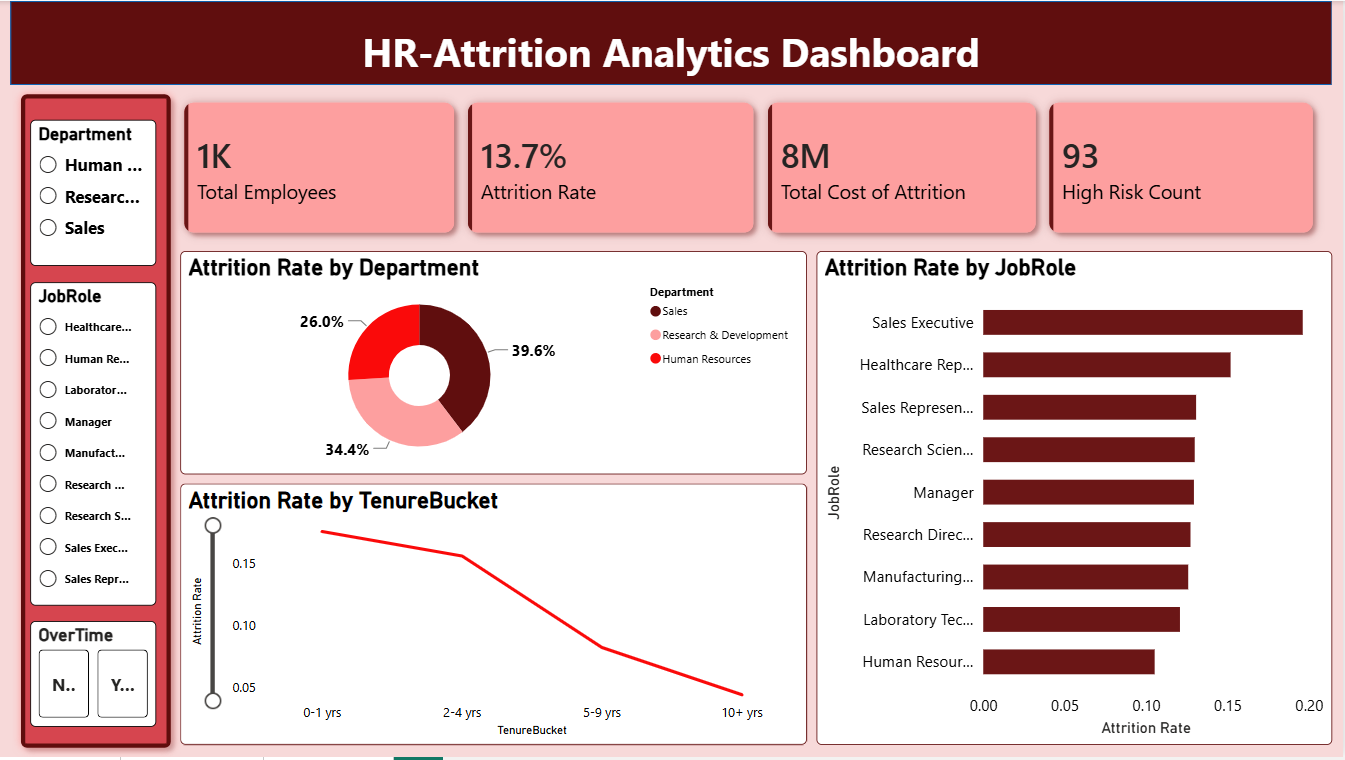

What the dashboard file says about the page in this screenshot:
{"tool":"powerbi","page":{"name":"Executive Overview","canvas":[1280,720],"ordinal":0},"visuals":[{"type":"cardVisual","fields":{"Data":["EmployeeData.Total Employees"]},"box":[159.5,79.8,291.7,158.3],"z":0},{"type":"cardVisual","fields":{"Data":["EmployeeData.Attrition Rate"]},"box":[430,80.1,306.4,158.4],"z":1000},{"type":"cardVisual","fields":{"Data":["EmployeeData.Total Cost of Attrition"]},"box":[715.6,80.1,289,158.4],"z":2000},{"type":"cardVisual","fields":{"Data":["EmployeeData.High Risk Count"]},"box":[983.7,80.1,285.5,158.4],"z":3000},{"type":"shape","box":[10.4,0,1258.8,80.1],"z":4000},{"type":"textbox","box":[10.4,17.4,1258.8,62.7],"z":5000},{"type":"donutChart","fields":{"Category":["EmployeeData.Department"],"Y":["EmployeeData.Attrition Rate"]},"box":[172.6,238.1,596.4,213.1],"z":6000},{"type":"clusteredBarChart","fields":{"Category":["EmployeeData.JobRole"],"Y":["EmployeeData.Attrition Rate"]},"box":[778.3,238.5,491,470.1],"z":7000},{"type":"lineChart","fields":{"Category":["EmployeeData.TenureBucket"],"Y":["EmployeeData.Attrition Rate"]},"box":[172.6,459.5,596.4,248.8],"z":8000},{"type":"shape","box":[11.9,79.8,160.7,640.5],"z":9000},{"type":"listSlicer","fields":{"Values":["EmployeeData.Department"]},"box":[29.8,113.1,120.2,139.3],"z":10000},{"type":"listSlicer","fields":{"Values":["EmployeeData.JobRole"]},"box":[30,267.3,119.9,308],"z":11000},{"type":"advancedSlicerVisual","fields":{"Values":["EmployeeData.OverTime"]},"box":[29.8,590.5,120.2,101.2],"z":12000}]}

Visuals, with their boxes in screenshot pixels (x1, y1, x2, y2), scaled from the page's 1280x720 canvas onto the 1345x760 screenshot:
cardVisual - EmployeeData.Total Employees: [168,84,474,251]
cardVisual - EmployeeData.Attrition Rate: [452,85,774,252]
cardVisual - EmployeeData.Total Cost of Attrition: [752,85,1056,252]
cardVisual - EmployeeData.High Risk Count: [1034,85,1334,252]
shape: [11,0,1334,85]
textbox: [11,18,1334,85]
donutChart - EmployeeData.Department x EmployeeData.Attrition Rate: [181,251,808,476]
clusteredBarChart - EmployeeData.JobRole x EmployeeData.Attrition Rate: [818,252,1334,748]
lineChart - EmployeeData.TenureBucket x EmployeeData.Attrition Rate: [181,485,808,748]
shape: [13,84,181,759]
listSlicer - EmployeeData.Department: [31,119,158,266]
listSlicer - EmployeeData.JobRole: [32,282,158,607]
advancedSlicerVisual - EmployeeData.OverTime: [31,623,158,730]
